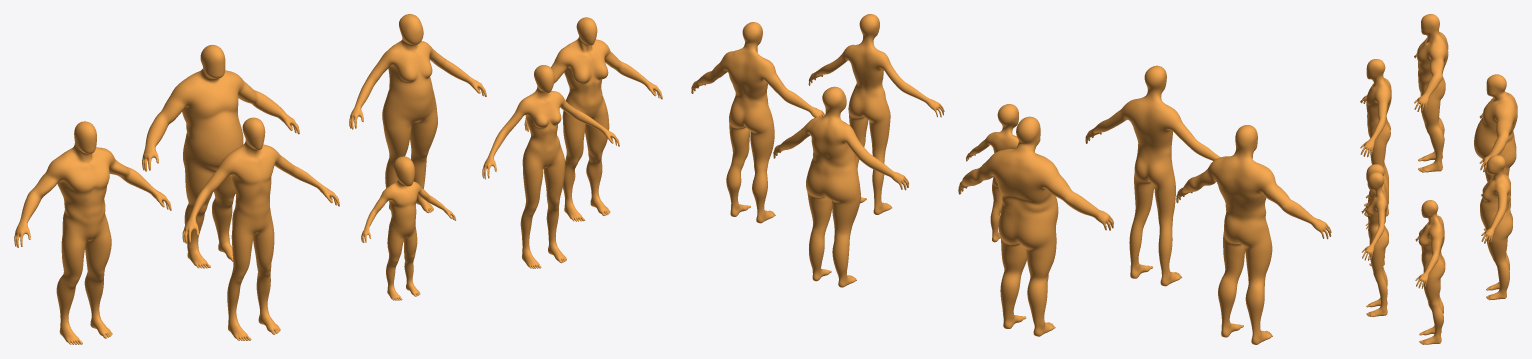
File: humans_base_mesh.glb
3 renders of one model, left to right at view 1: azimuth 30°, elevation 25°; view 2: azimuth 150°, elevation 25°; view 3: azimuth 270°, elevation 25°, orthographic. The views are drawn at different scales.
Visible parts, largest first — view 1: model_human_curvy_male_mesh, model_human_muscled_male_mesh, model_human_male_mesh, model_human_curvy_female_mesh, model_human_muscled_female_mesh, model_human_female_mesh, model_human_kid_mesh; view 2: model_human_curvy_male_mesh, model_human_muscled_male_mesh, model_human_curvy_female_mesh, model_human_male_mesh, model_human_muscled_female_mesh, model_human_female_mesh, model_human_kid_mesh; view 3: model_human_muscled_male_mesh, model_human_curvy_female_mesh, model_human_curvy_male_mesh, model_human_muscled_female_mesh, model_human_male_mesh, model_human_female_mesh, model_human_kid_mesh.
Boxes of the visible parts, <box> form: model_human_curvy_male_mesh: <box>142,44,299,268</box>; model_human_muscled_male_mesh: <box>14,121,171,344</box>; model_human_male_mesh: <box>182,117,339,340</box>; model_human_curvy_female_mesh: <box>349,14,486,213</box>; model_human_muscled_female_mesh: <box>524,17,662,221</box>; model_human_female_mesh: <box>482,65,619,268</box>; model_human_kid_mesh: <box>361,156,456,300</box>; model_human_curvy_male_mesh: <box>958,116,1113,336</box>; model_human_muscled_male_mesh: <box>1176,125,1331,344</box>; model_human_curvy_female_mesh: <box>773,86,909,287</box>; model_human_male_mesh: <box>1085,65,1220,286</box>; model_human_muscled_female_mesh: <box>691,22,825,223</box>; model_human_female_mesh: <box>808,14,944,214</box>; model_human_kid_mesh: <box>966,104,1018,242</box>; model_human_muscled_male_mesh: <box>1414,14,1448,172</box>; model_human_curvy_female_mesh: <box>1480,155,1512,300</box>; model_human_curvy_male_mesh: <box>1474,74,1517,230</box>; model_human_muscled_female_mesh: <box>1415,200,1445,344</box>; model_human_male_mesh: <box>1360,59,1391,216</box>; model_human_female_mesh: <box>1361,172,1388,316</box>; model_human_kid_mesh: <box>1365,164,1385,266</box>.
Size of the model in its own units: 5.28 by 1.66 by 1.58.
